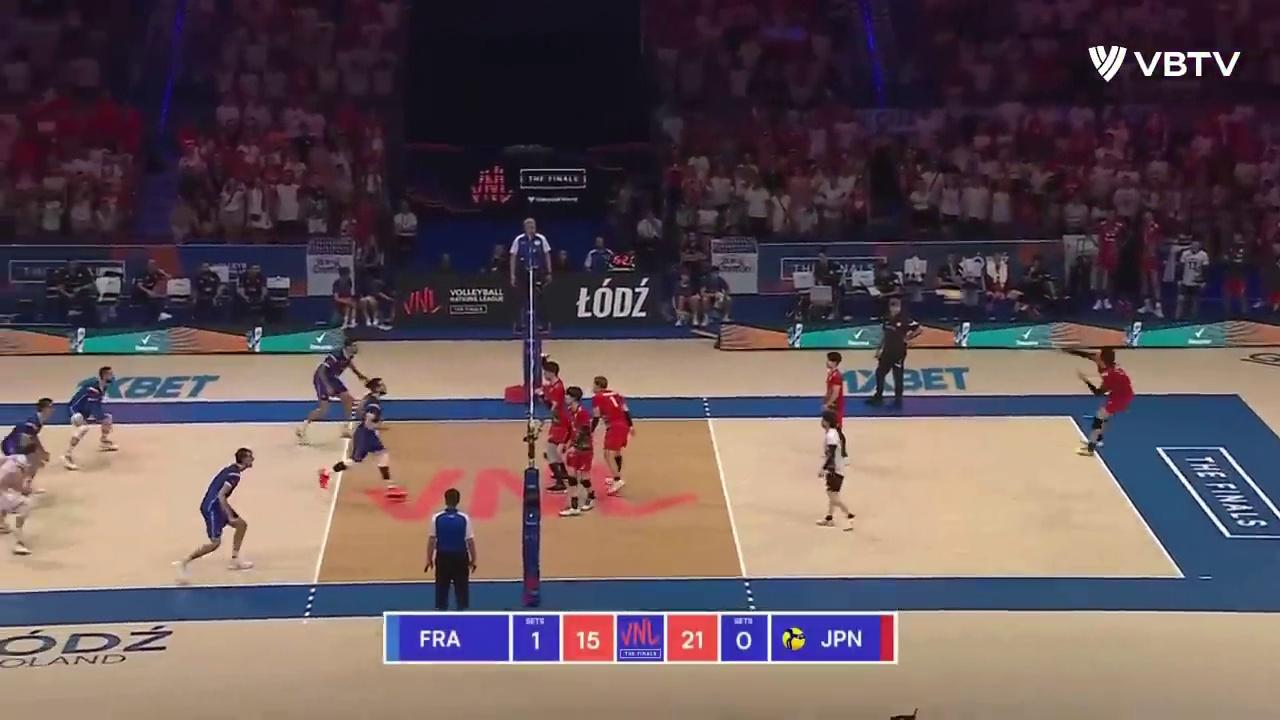ball: (939, 288, 962, 306)
